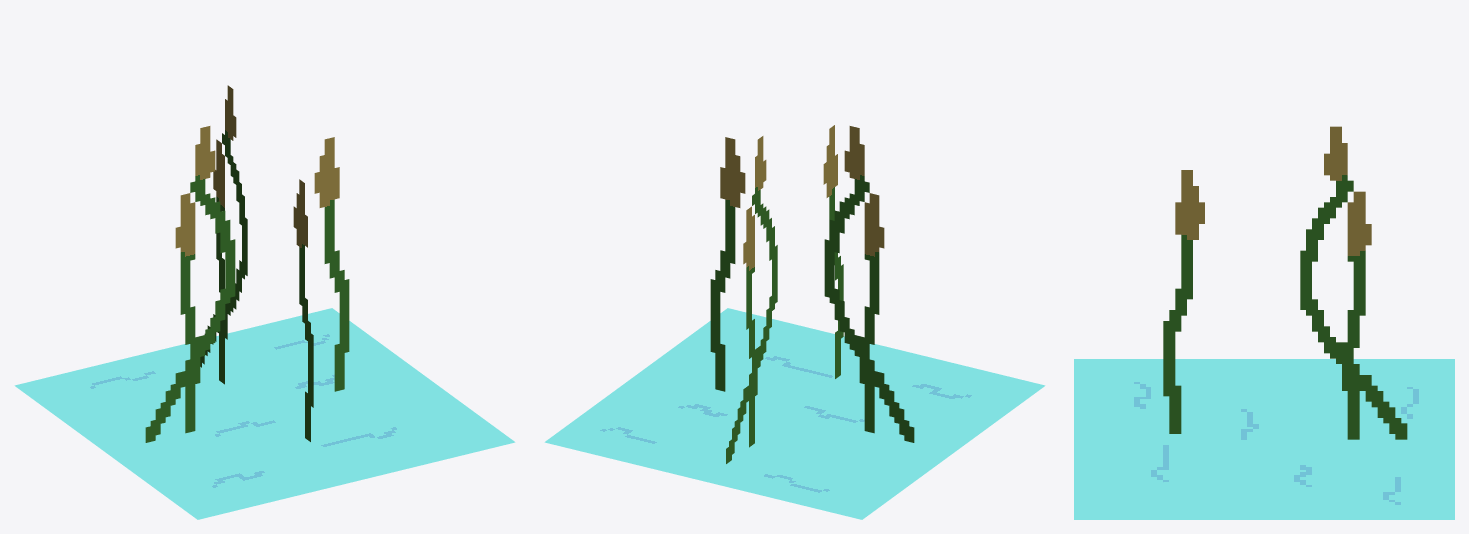
File: water_2.gltf
3 renders of one model, left to right at view 1: azimuth 30°, elevation 25°; view 2: azimuth 150°, elevation 25°; view 3: azimuth 270°, elevation 25°, orthographic. The views are drawn at different scales.
Visible parts, largest first — view 1: ground, plane (×2); view 2: ground, plane (×2); view 3: ground, plane.
Boxes of the visible parts, <box> form: ground: <box>14,308,515,519</box>; plane (×2): <box>145,85,349,442</box>; ground: <box>544,308,1045,519</box>; plane (×2): <box>710,125,914,463</box>; ground: <box>1074,359,1454,519</box>; plane: <box>1163,126,1407,439</box>.
Size of the model in its own units: 1 by 1 by 1.
2 materials, 2 textured.
